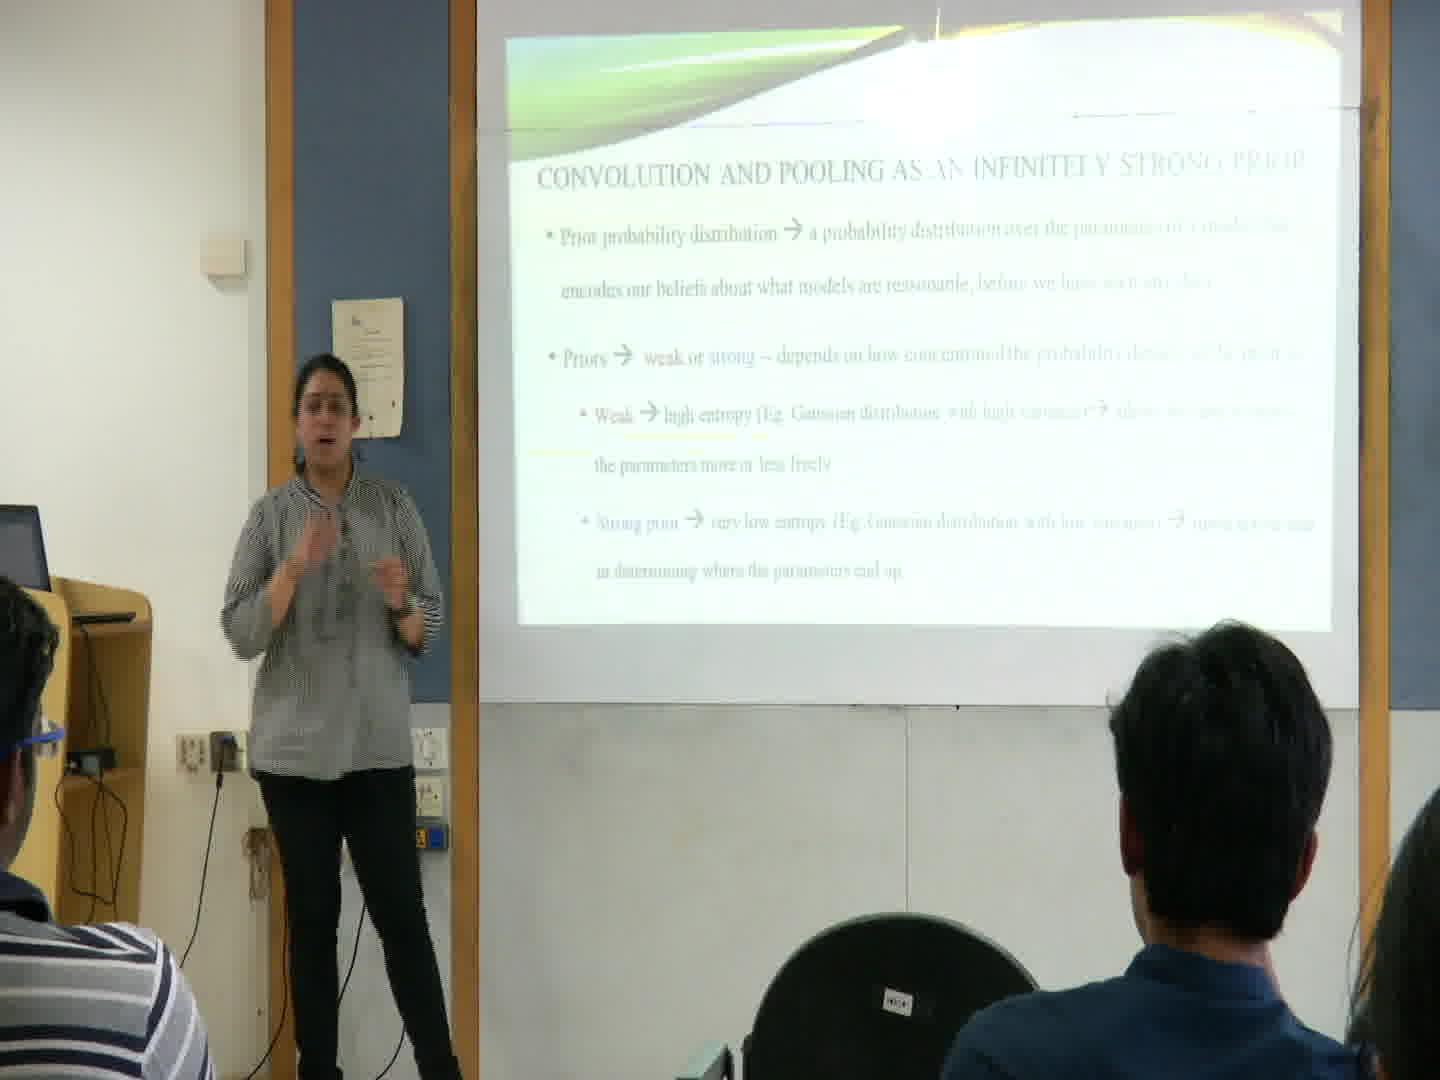slide: (506, 10, 1335, 631)
